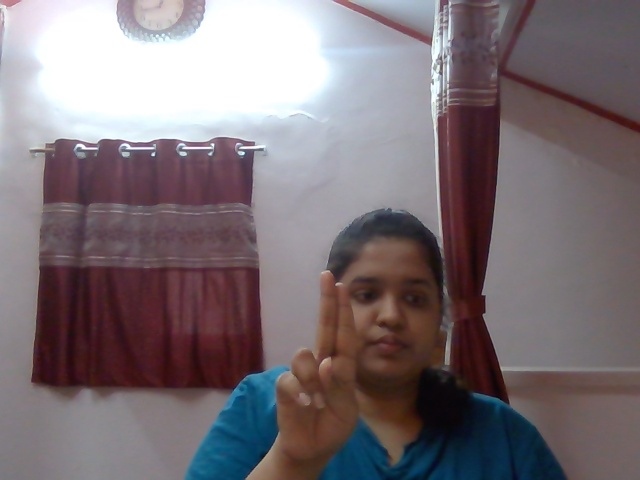u: (252, 257, 379, 459)
